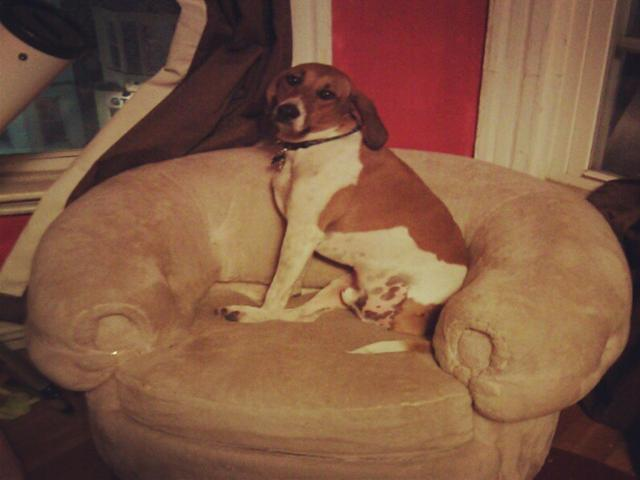Dog: (212, 59, 474, 355)
